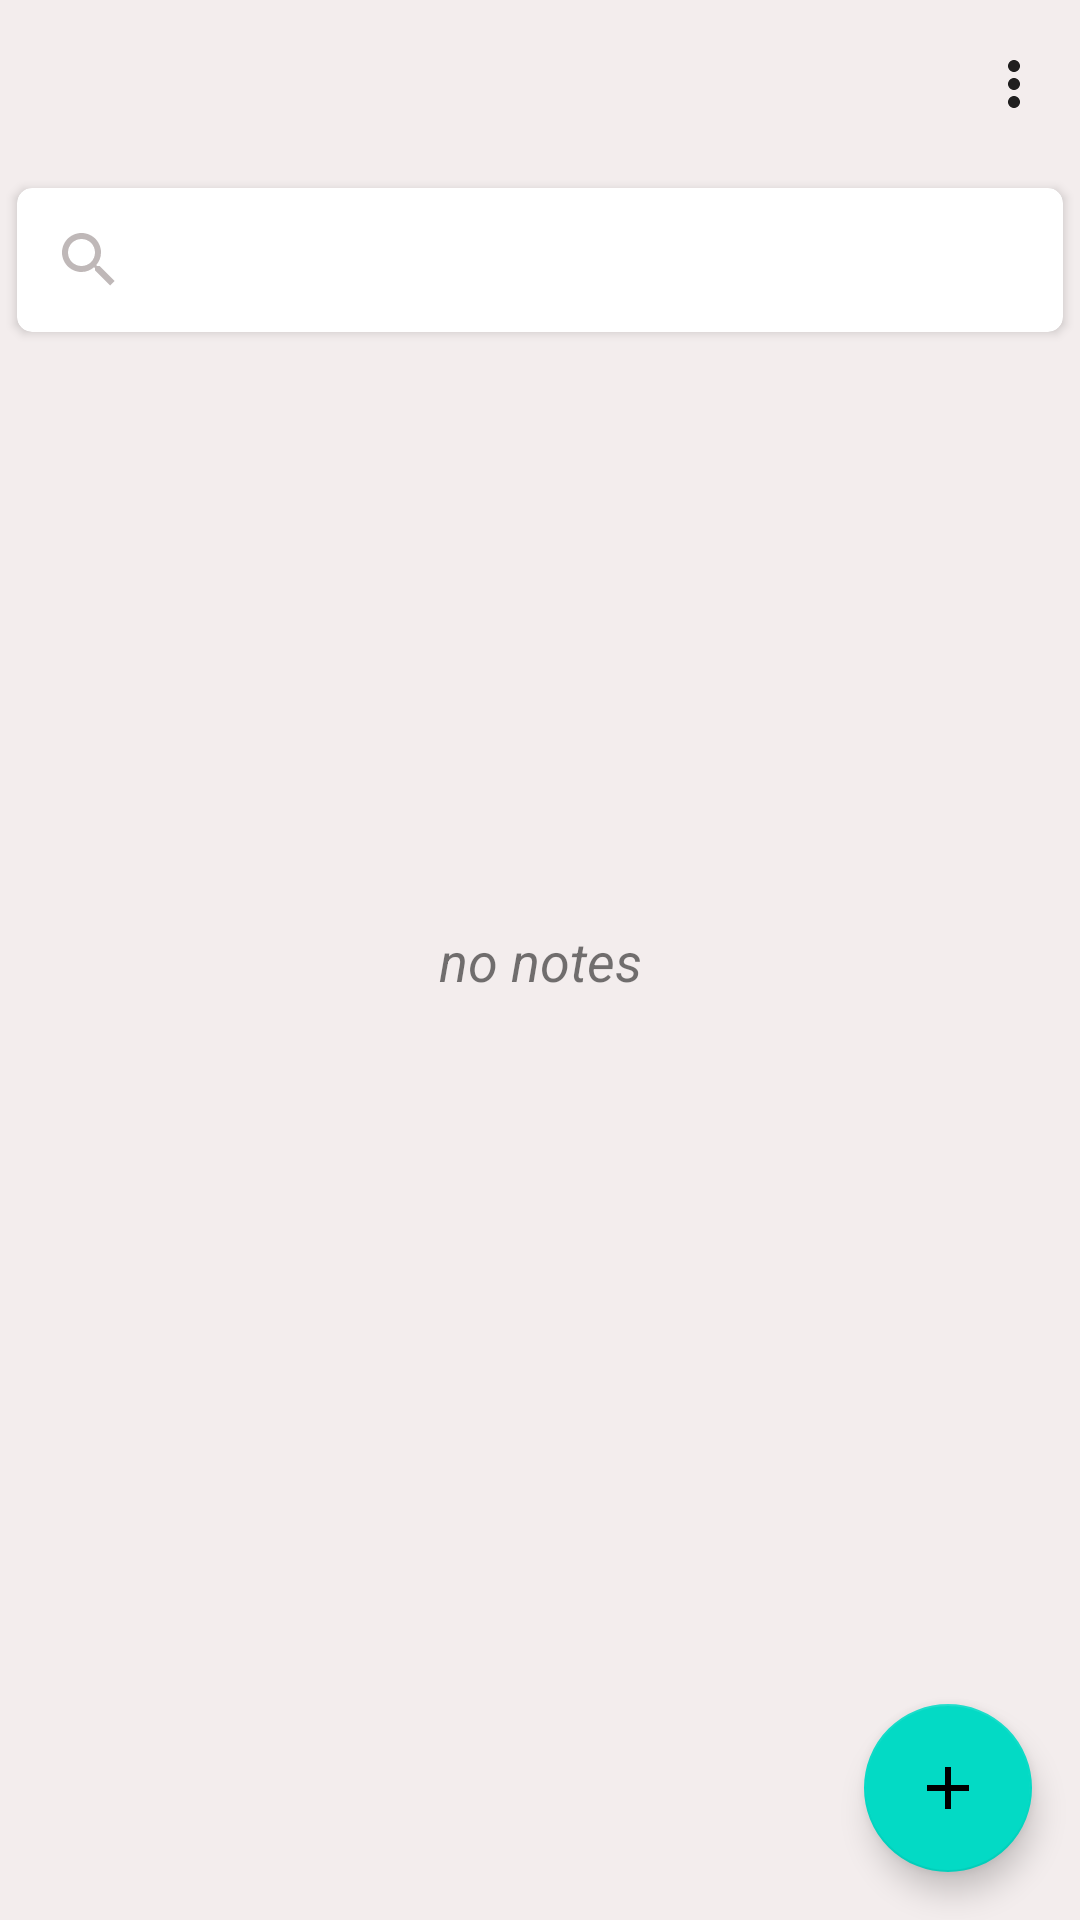

Icon bounding boxes for this 1080 x 1920 phone screenshot, format {"x1": x1, "y1": y1, "x2": x2, "y2": y2}:
add note: {"x1": 864, "y1": 1704, "x2": 1032, "y2": 1872}
